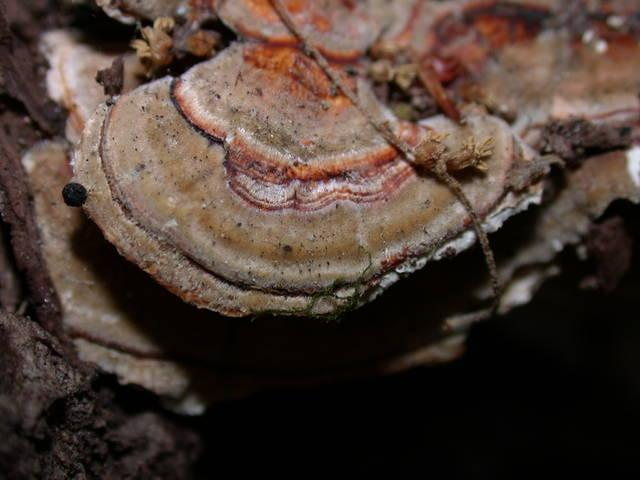poisonous_mushroom: (62, 37, 557, 320)
